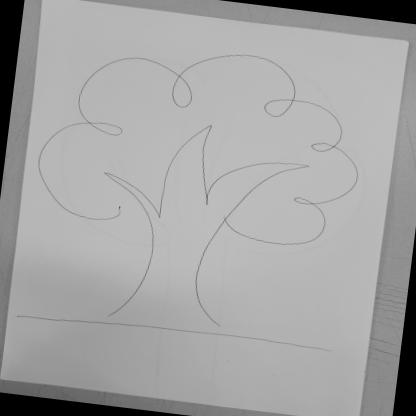branch_sharp: (100, 110, 312, 220)
crown_cloud: (29, 21, 376, 254)
root_none: (83, 300, 244, 368)
trunk_reflex: (133, 220, 224, 305)
